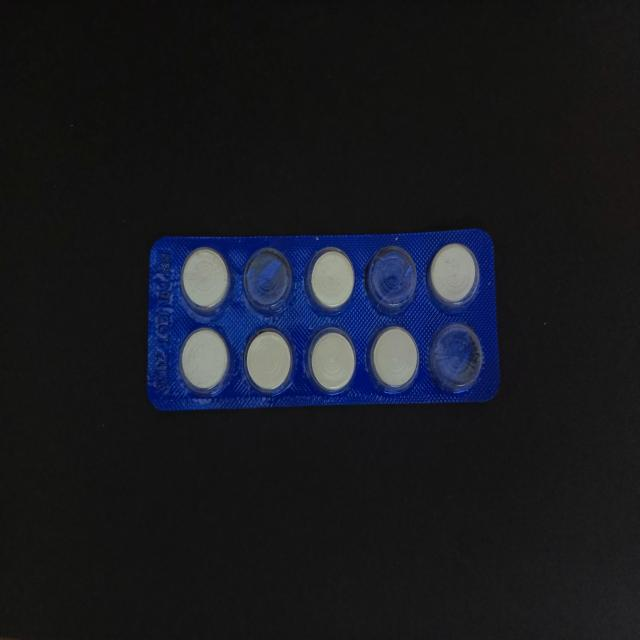defect: (426, 319, 486, 396), (364, 243, 419, 317), (241, 244, 296, 317)
